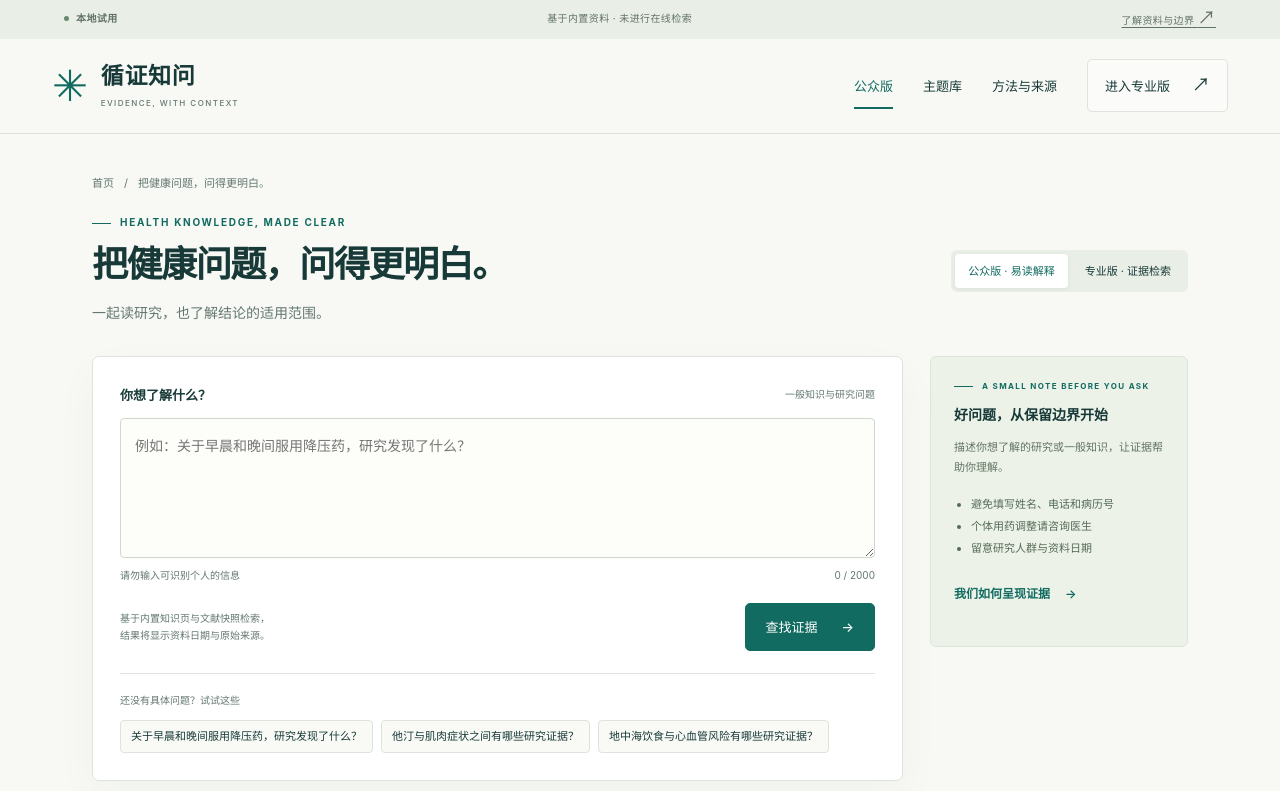
question workbench › submits actual text, renders citations safely, and keeps the original result label after switching
Type "关于健康的一般问题" into the text box labelled "你想了解什么？" at (498, 488), box [120,418,875,558]
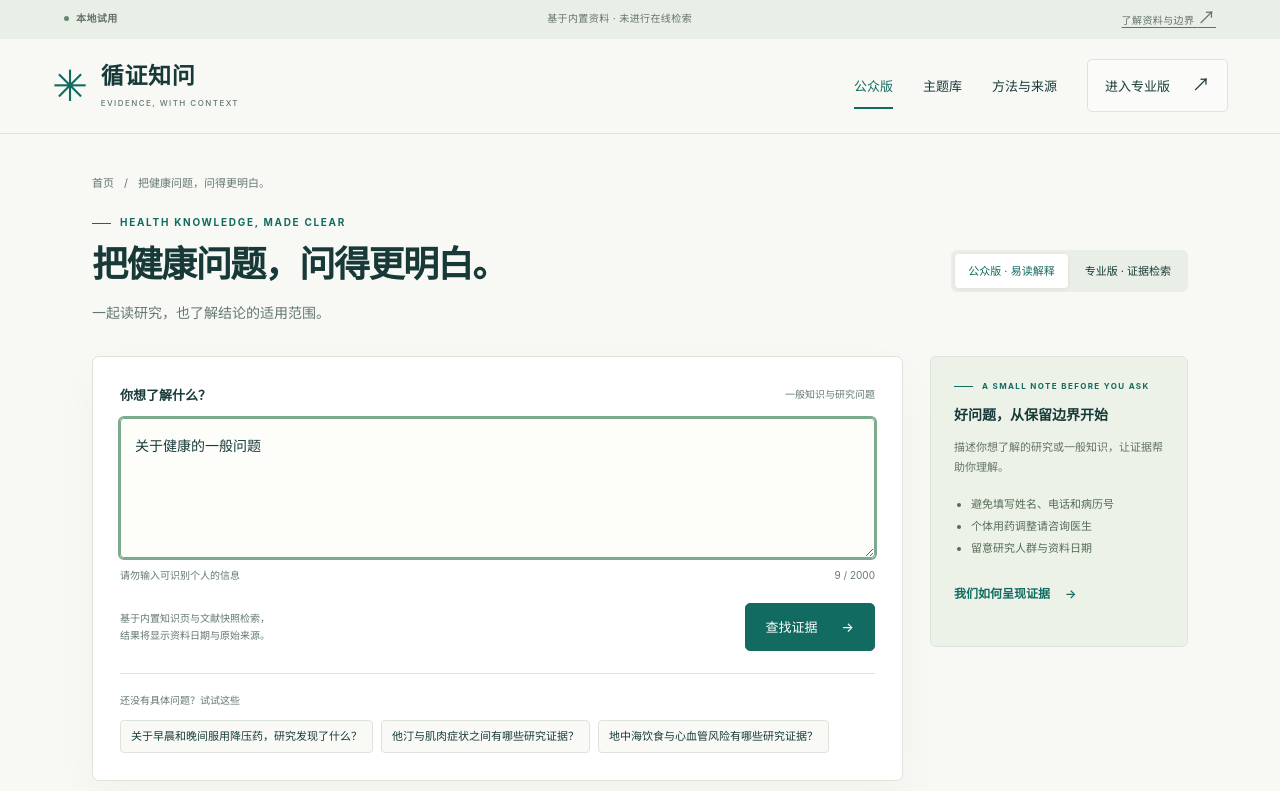
Click the button "查找证据 →" at (810, 627), box [745,603,875,651]
(page scrolled)
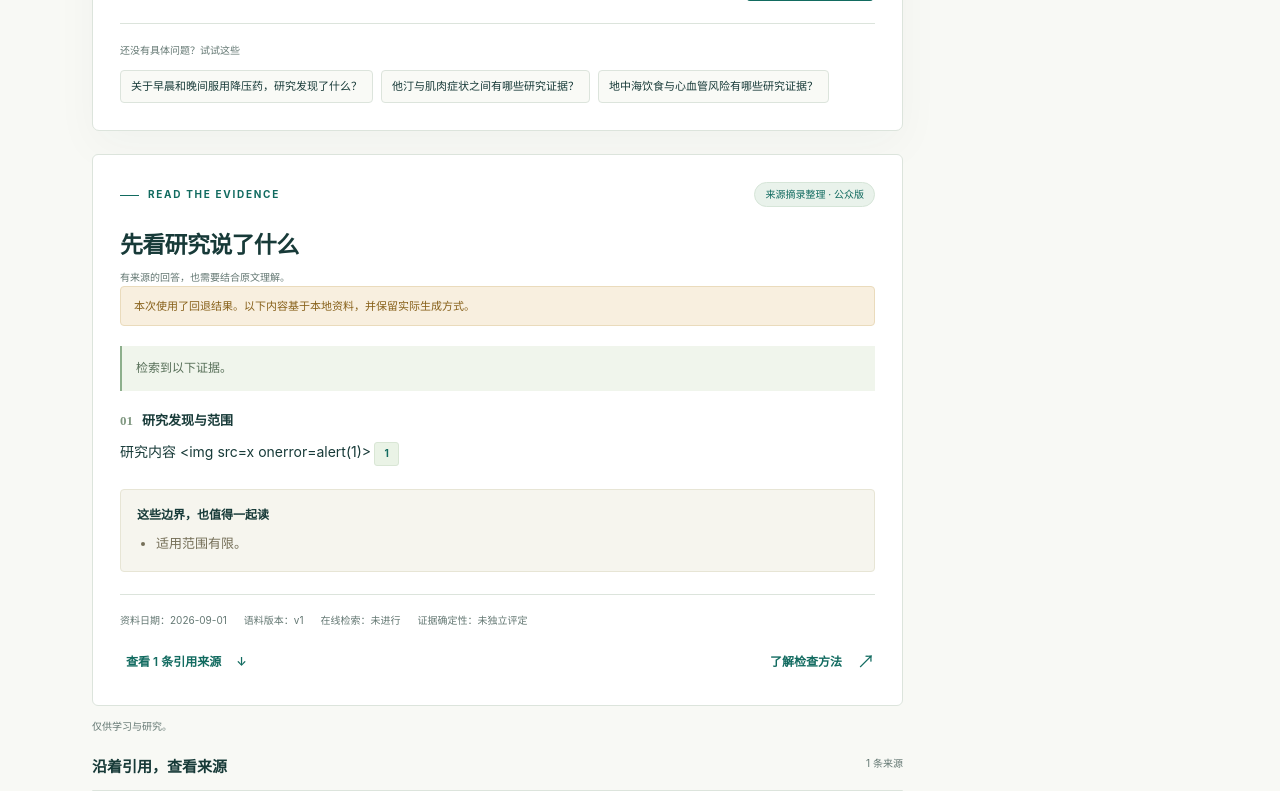
Result: the text "研究内容 <img src=x onerror=alert(1)>" is shown at [120,443,371,460]
Click the button named "查看引用 1：A source" at (387, 454), box [374,442,399,466]
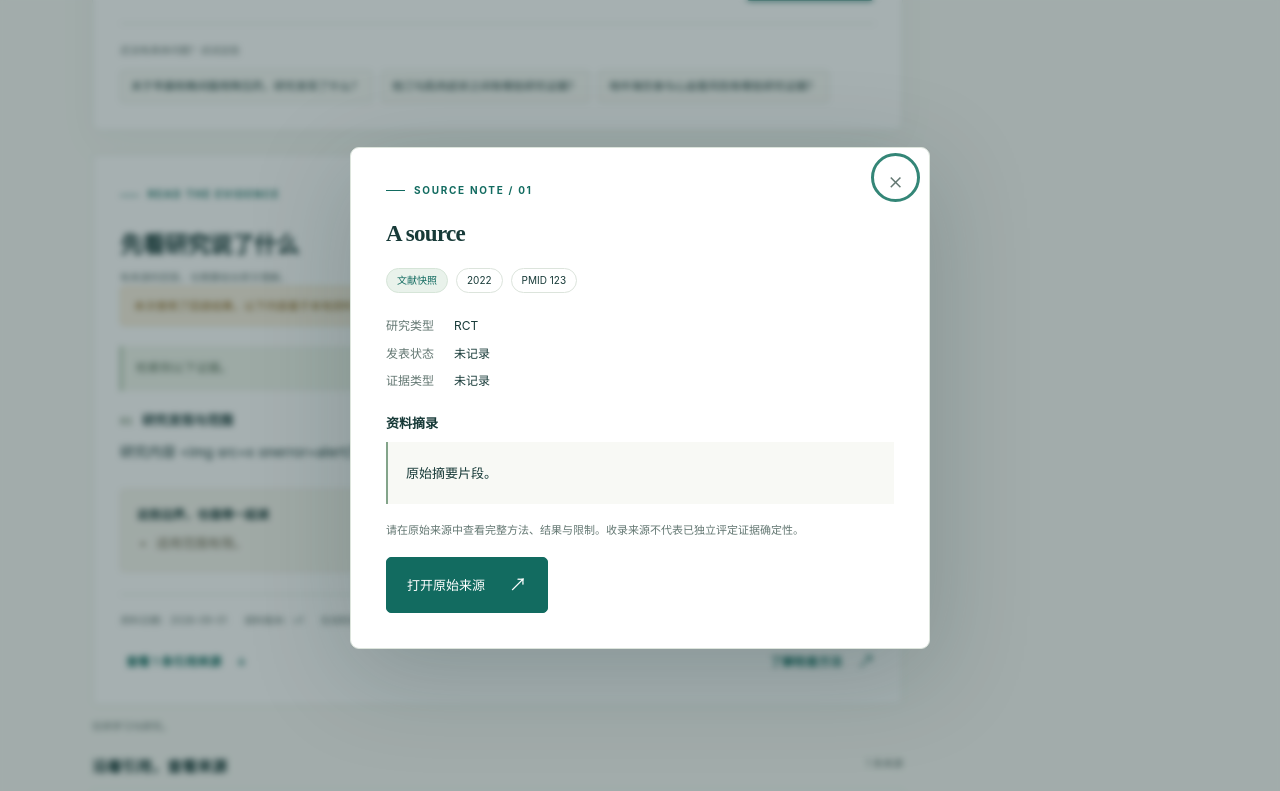
Result: the dialog shows "原始摘要片段。" at [406,465,497,481]
Click the button named "关闭来源详情" at (896, 177), box [878,160,913,195]
(page scrolled)
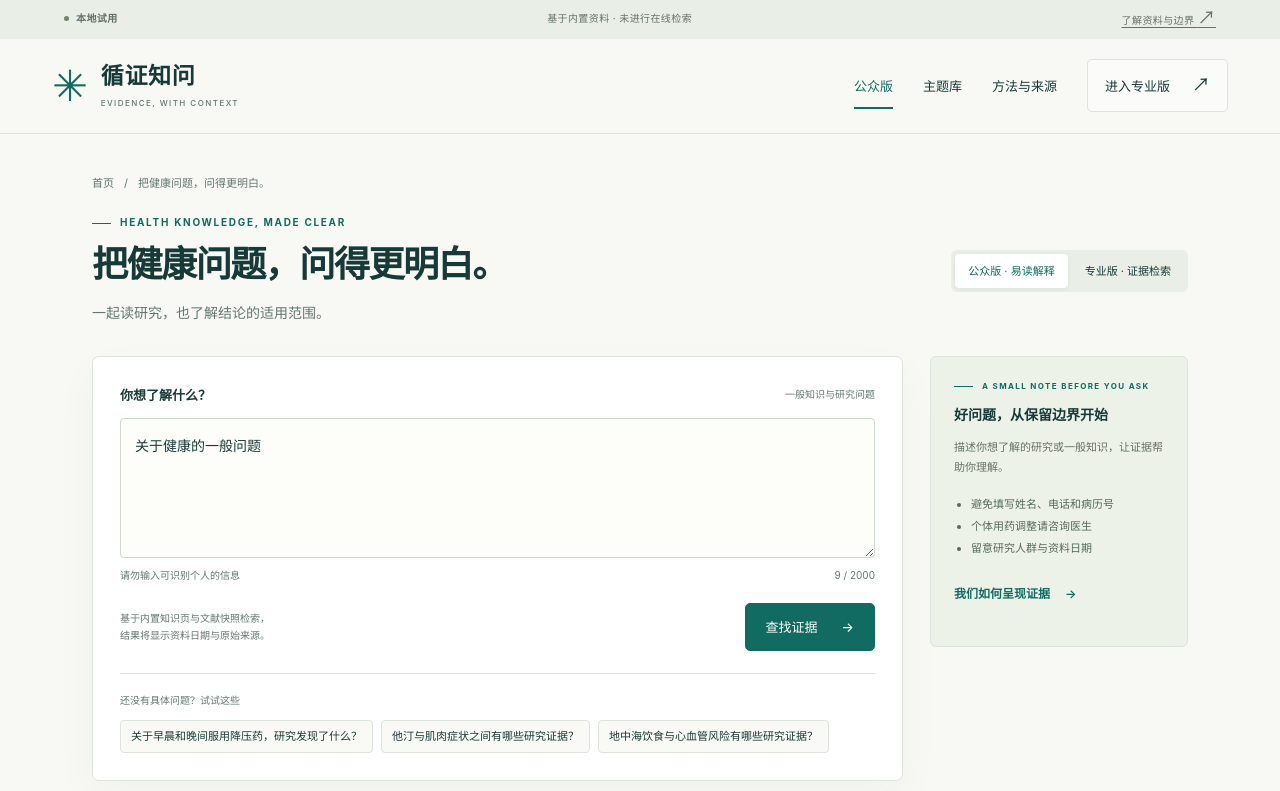
Click the link "专业版 · 证据检索" at (1128, 271), box [1085,264,1171,278]
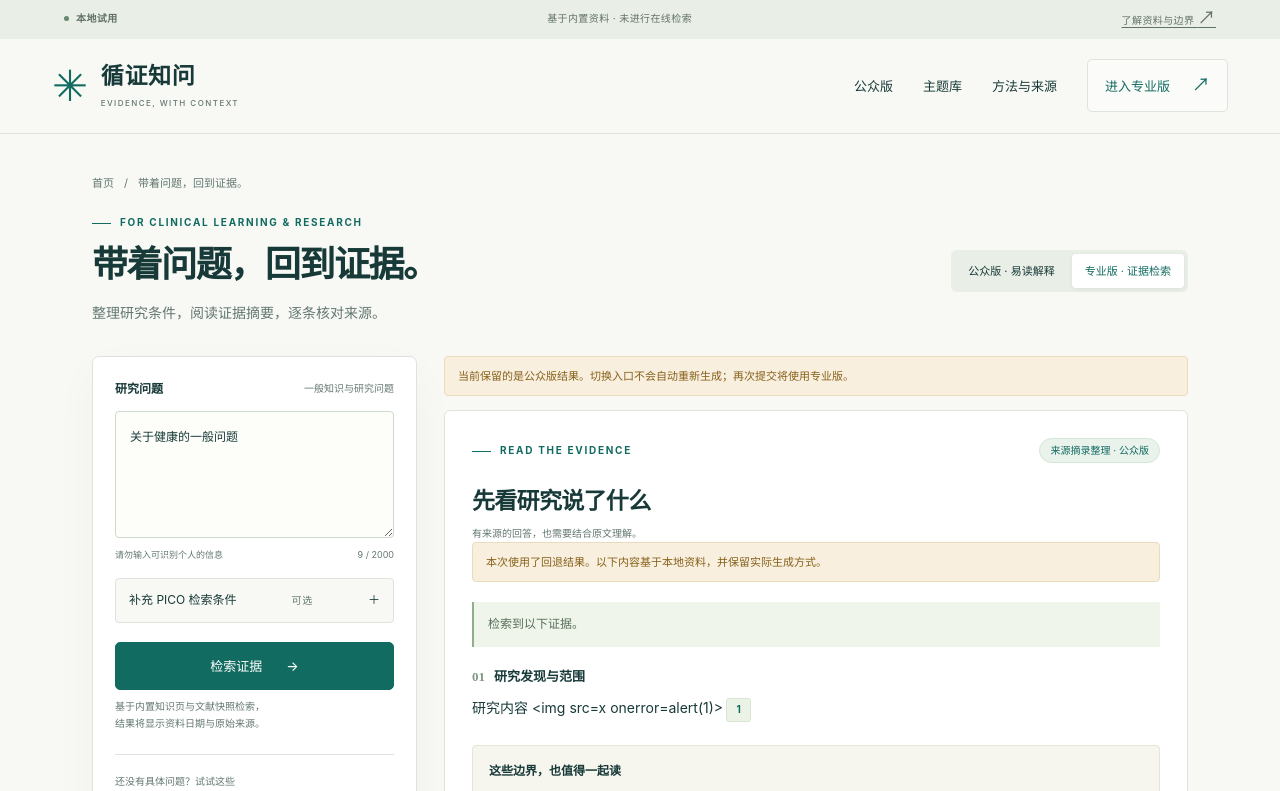
Result: the text "当前保留的是公众版结果" is shown at [444,356,1188,396]
